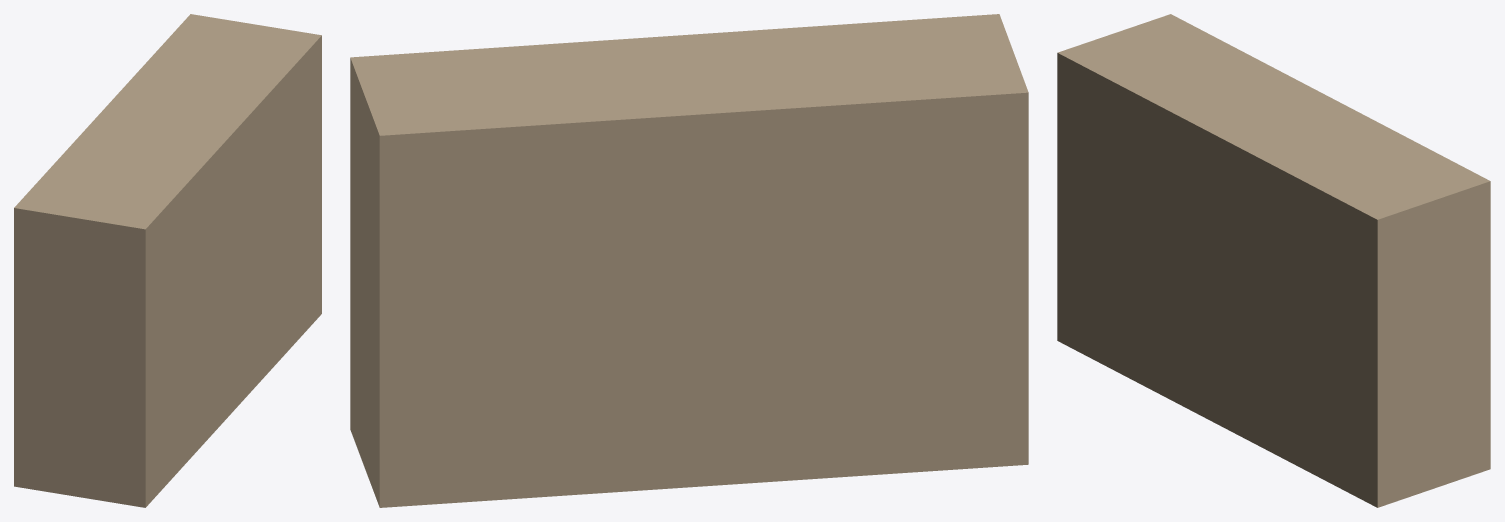
File: bld_100478387.dae
The picture shows the model from 3 angles, left to right: view 1: azimuth 30°, elevation 25°; view 2: azimuth 150°, elevation 25°; view 3: azimuth 270°, elevation 25°; orthographic projection. The views are drawn at different scales.
Visible parts, largest first — view 1: bld_100478387; view 2: bld_100478387; view 3: bld_100478387.
Part boxes in pixels (x1,y1,x2,y2): bld_100478387: [14, 14, 321, 507]; bld_100478387: [350, 14, 1028, 507]; bld_100478387: [1057, 14, 1490, 507].
Bounding box in the file's own units: 12.26 × 10.9 × 8.
